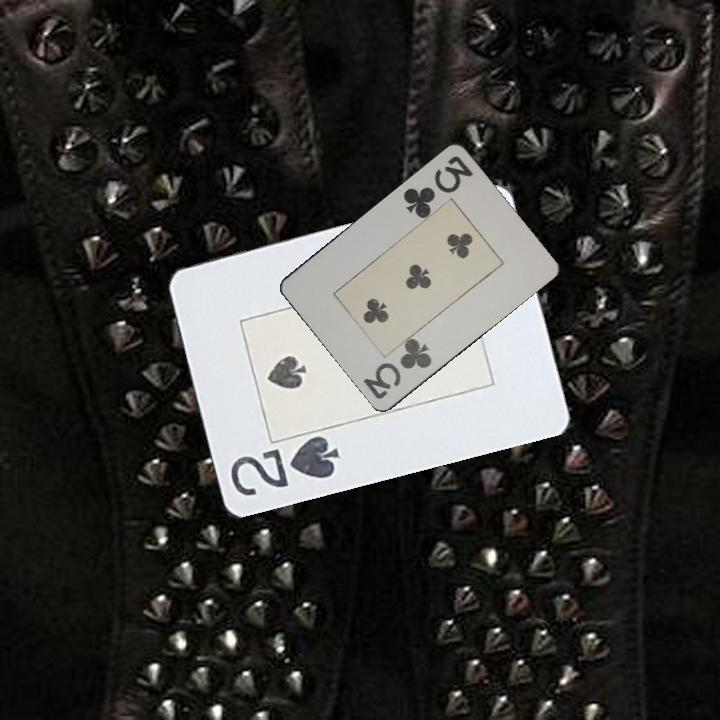2s: (227, 431, 344, 499)
3c: (399, 151, 477, 221), (360, 335, 435, 402)
